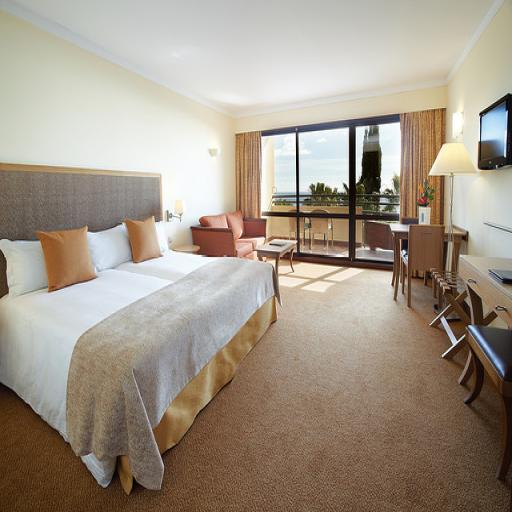bed: (6, 157, 300, 512)
